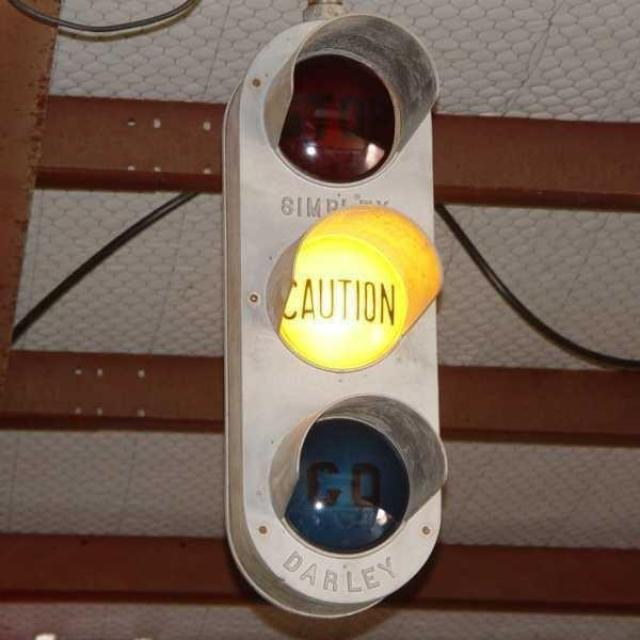Traffic Light -Yellow-: (224, 7, 451, 635)
